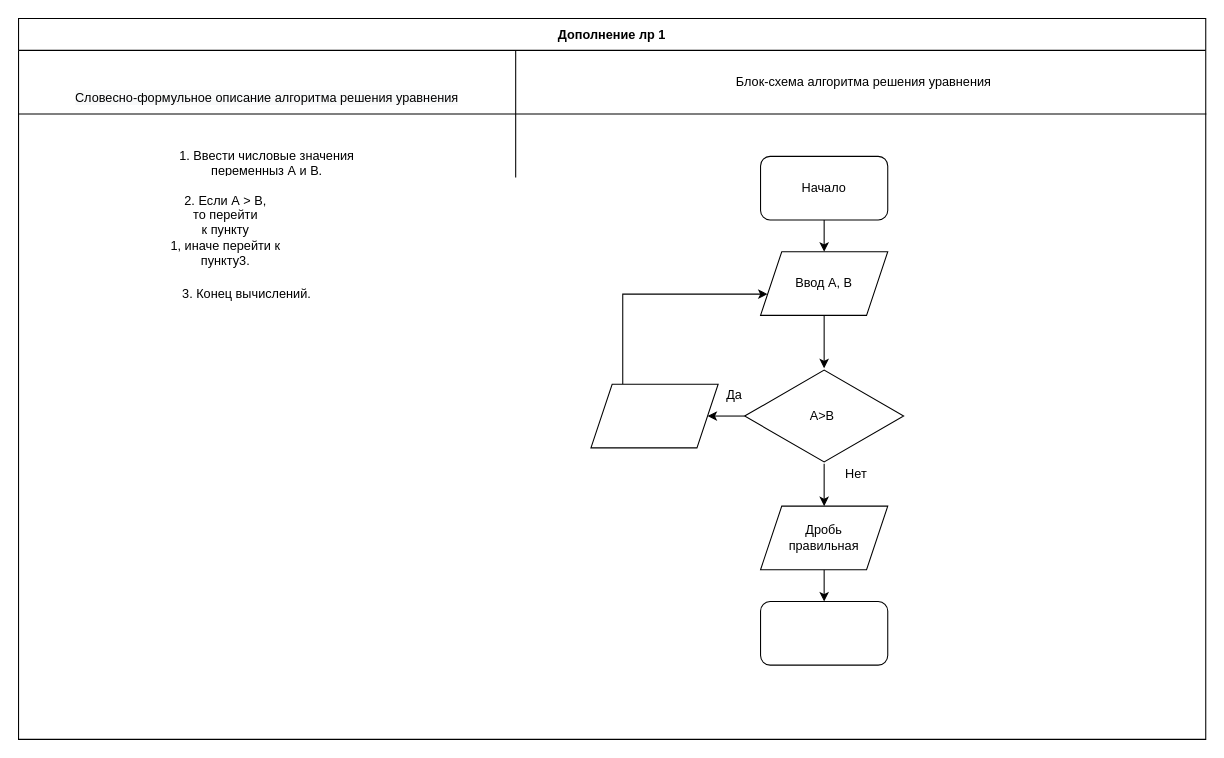
Some shapes in this 1224 by 758 pixel diagram are drawn without their labels. Here are the shapes that lost their labels. From the top down, the box of each, then its label:
(590, 383, 718, 448): Дробь не правильная
(759, 600, 888, 665): Конец
